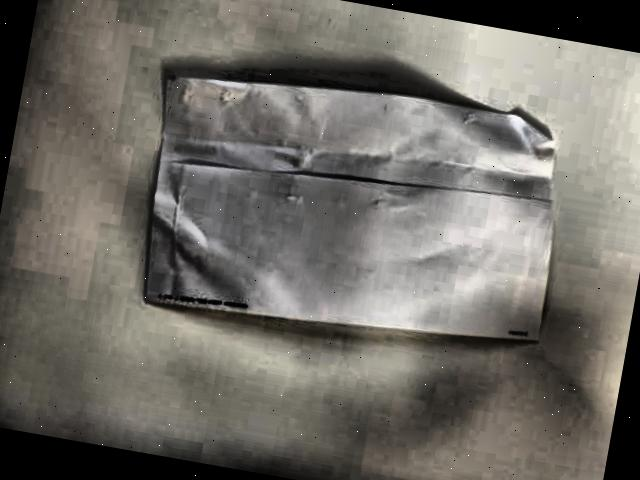Paper: (111, 40, 584, 385)
